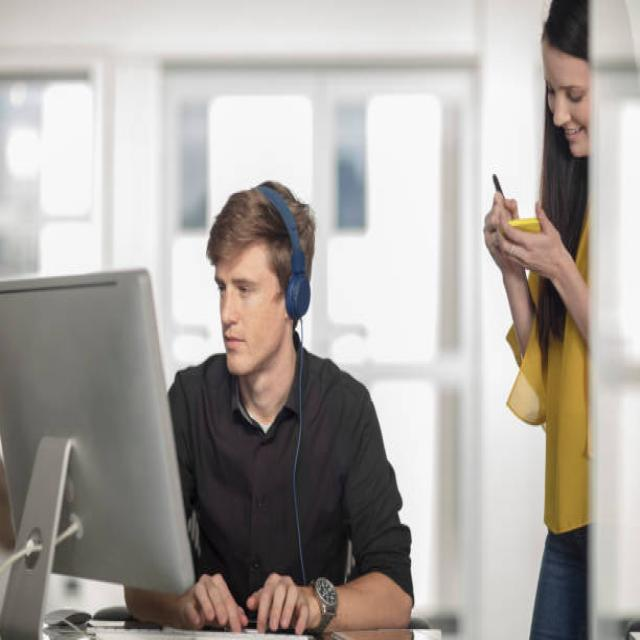Headphone: (254, 183, 313, 325)
